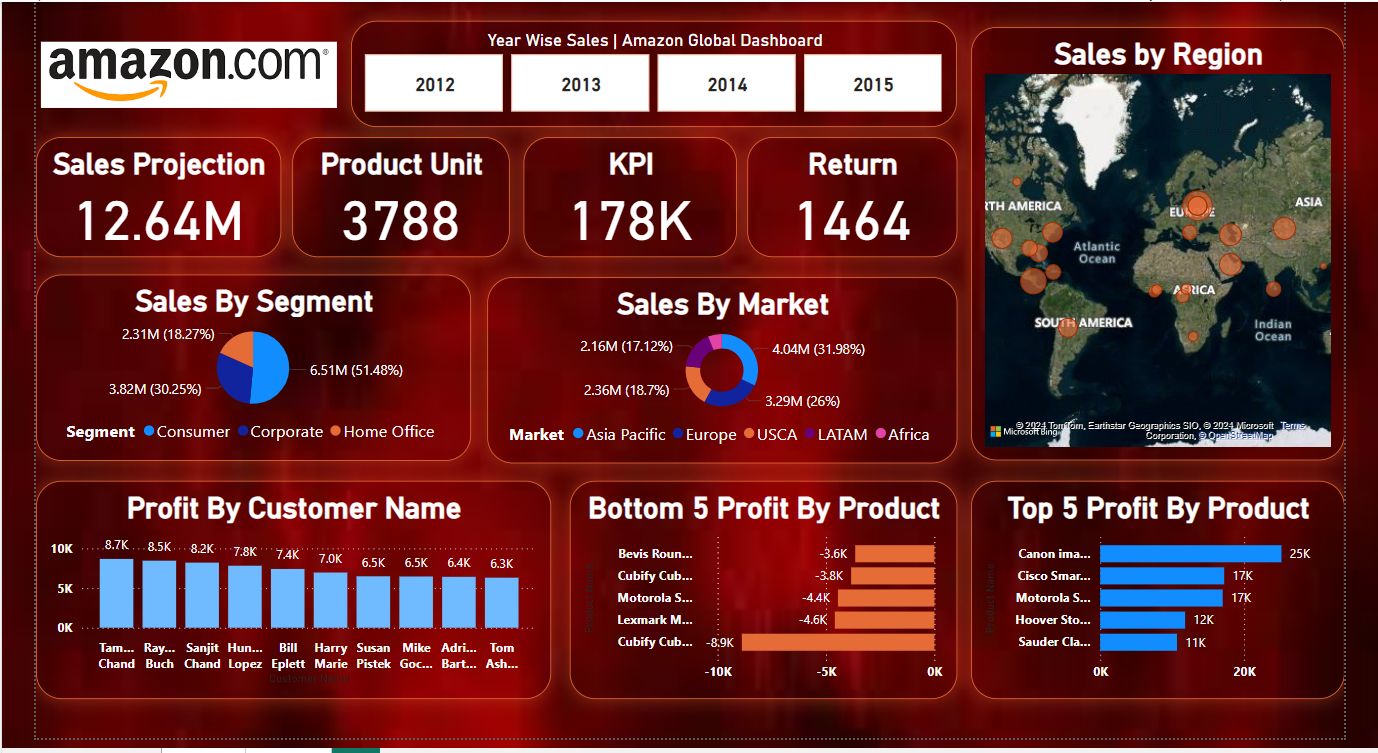

The dashboard page shown, as its layout file describes it:
{"tool":"powerbi","page":{"name":"Rep1","canvas":[1280,720],"ordinal":0},"visuals":[{"type":"advancedSlicerVisual","title":"Year Wise Sales | Amazon Global Dashboard","fields":{"Values":["Orders.Year"]},"box":[308.2,18.3,593.1,103.9],"z":0},{"type":"card","title":"Product Unit","fields":{"Values":["Orders.Product Name"]},"box":[250.7,132.1,212.8,117.4],"z":1000},{"type":"image","box":[0,24.5,299.6,92.9],"z":2000},{"type":"card","title":"Sales Projection","fields":{"Values":["Orders.Sales"]},"box":[0,132.1,239.7,117.4],"z":3000},{"type":"card","title":"KPI","fields":{"Values":["Orders.Quantity"]},"box":[476.9,132.1,209.1,117.4],"z":4000},{"type":"card","title":"Return","fields":{"Values":["Orders.Ship Date"]},"box":[695.8,132.1,205.4,117.4],"z":5000},{"type":"pieChart","title":"Sales By Segment","fields":{"Y":["Orders.Sales"],"Category":["Orders.Segment"]},"box":[0,266.6,425.5,182.2],"z":6000},{"type":"donutChart","title":"Sales By Market","fields":{"Y":["Orders.Sales"],"Category":["Orders.Market"]},"box":[441.4,269,459.8,182.2],"z":7000},{"type":"columnChart","title":"Profit By Customer Name","fields":{"Category":["Orders.Customer Name"],"Y":["Orders.Profit"]},"box":[0,468.3,503.8,214],"z":8000},{"type":"clusteredBarChart","title":"Top 5 Profit By Product","fields":{"Y":["Orders.Profit"],"Category":["Orders.Product Name"]},"box":[914.7,468.3,365.6,214],"z":9000},{"type":"clusteredBarChart","title":"Bottom 5 Profit By Product","fields":{"Y":["Orders.Profit"],"Category":["Orders.Product Name"]},"box":[522.1,468.3,379.1,214],"z":10000},{"type":"map","title":"Sales by Region","fields":{"Category":["Orders.Region"],"Size":["Orders.Sales"]},"box":[914.7,24.5,365.6,424.3],"z":11000}]}

Visuals, with their boxes in screenshot pixels (x1, y1, x2, y2), scaled from the page's 1280x720 canvas onto the 1378x753 screenshot:
"Year Wise Sales | Amazon Global Dashboard" advancedSlicerVisual: {"left": 332, "top": 19, "right": 970, "bottom": 128}
"Product Unit" card: {"left": 270, "top": 138, "right": 499, "bottom": 261}
image: {"left": 0, "top": 26, "right": 323, "bottom": 123}
"Sales Projection" card: {"left": 0, "top": 138, "right": 258, "bottom": 261}
"KPI" card: {"left": 513, "top": 138, "right": 739, "bottom": 261}
"Return" card: {"left": 749, "top": 138, "right": 970, "bottom": 261}
"Sales By Segment" pieChart: {"left": 0, "top": 279, "right": 458, "bottom": 469}
"Sales By Market" donutChart: {"left": 475, "top": 281, "right": 970, "bottom": 472}
"Profit By Customer Name" columnChart: {"left": 0, "top": 490, "right": 542, "bottom": 714}
"Top 5 Profit By Product" clusteredBarChart: {"left": 985, "top": 490, "right": 1377, "bottom": 714}
"Bottom 5 Profit By Product" clusteredBarChart: {"left": 562, "top": 490, "right": 970, "bottom": 714}
"Sales by Region" map: {"left": 985, "top": 26, "right": 1377, "bottom": 469}
